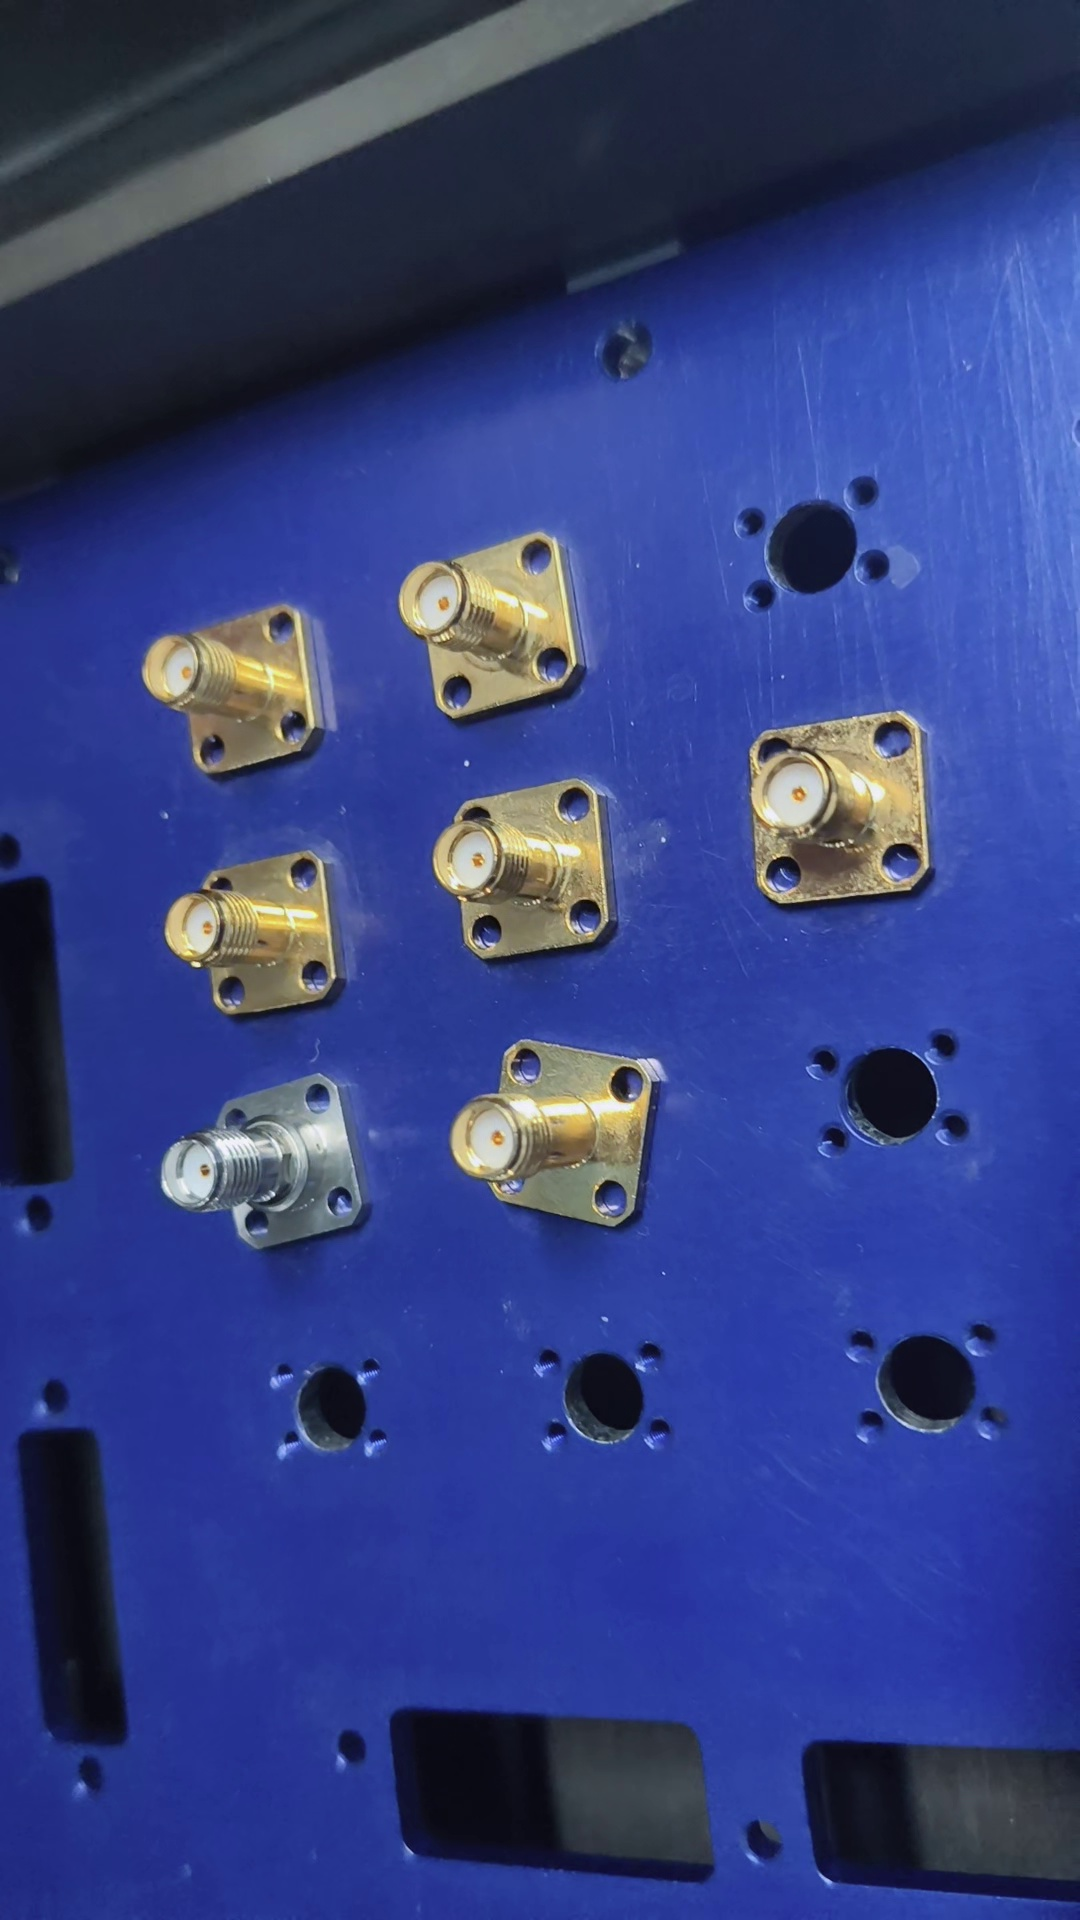SMA: (448, 1034, 669, 1236), (404, 527, 597, 724), (749, 708, 942, 905), (433, 775, 626, 963), (164, 1073, 373, 1244), (145, 607, 334, 782), (167, 852, 353, 1014)
